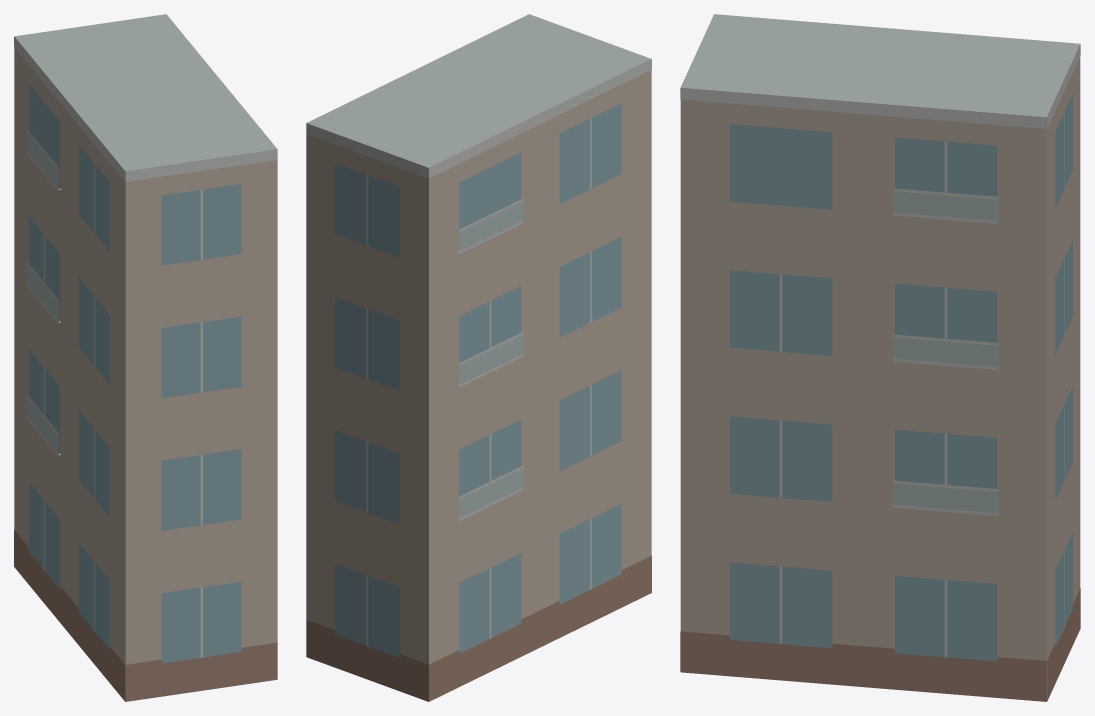
File: survey-upis-32497102.glb
The picture shows the model from 3 angles, left to right: view 1: azimuth 30°, elevation 25°; view 2: azimuth 150°, elevation 25°; view 3: azimuth 270°, elevation 25°; orthographic projection. The views are drawn at different scales.
Parts seen in each view (by area): view 1: survey-upis-32497102.tmp; view 2: survey-upis-32497102.tmp; view 3: survey-upis-32497102.tmp.
Boxes of the visible parts, x1,y1,x2,y2 form: survey-upis-32497102.tmp: (14,14,277,701); survey-upis-32497102.tmp: (306,14,651,701); survey-upis-32497102.tmp: (680,14,1080,701).
Bounding box in the file's own units: 4.63 × 12.2 × 7.58.
